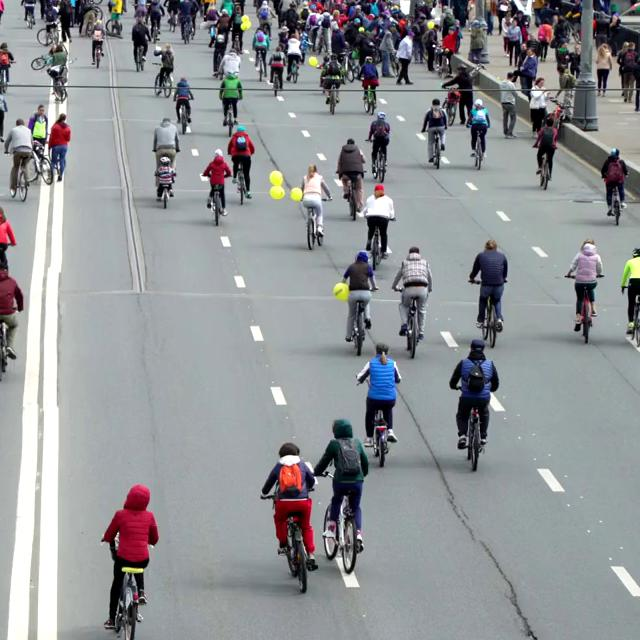bicycle: (260, 485, 317, 593), (100, 538, 149, 639), (317, 471, 362, 574), (356, 376, 401, 467), (452, 386, 491, 471), (564, 273, 603, 344), (468, 279, 507, 348), (392, 287, 428, 358), (344, 288, 379, 356), (360, 213, 395, 271), (152, 149, 180, 209), (4, 150, 35, 202), (302, 197, 332, 250), (200, 173, 229, 226), (340, 170, 366, 220), (606, 172, 628, 226), (30, 139, 53, 184), (366, 138, 389, 183), (466, 124, 488, 170), (220, 95, 242, 136), (46, 64, 68, 103), (231, 160, 250, 205), (30, 52, 77, 70), (173, 94, 193, 134), (426, 128, 445, 170), (321, 77, 342, 114), (152, 62, 173, 98), (535, 149, 553, 190), (441, 88, 460, 126), (500, 102, 517, 138), (360, 82, 378, 114), (269, 66, 284, 96)
